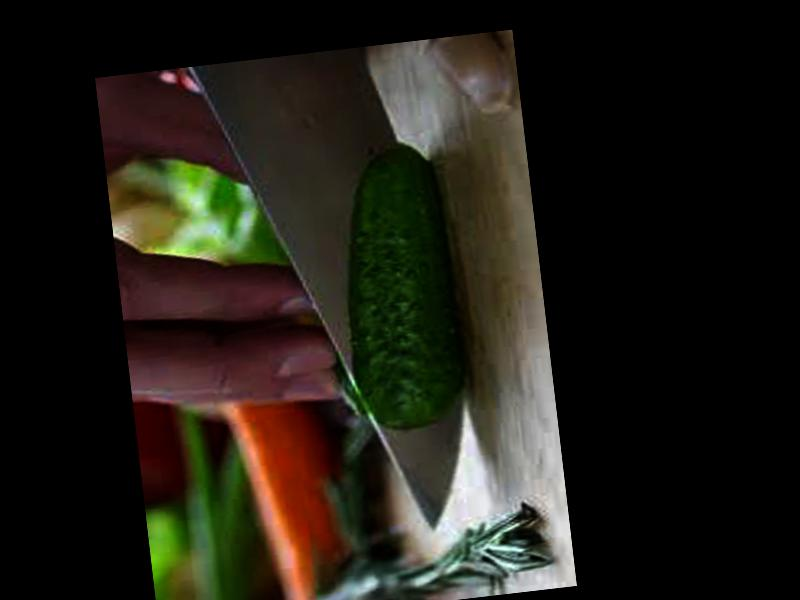Cucumber: (328, 141, 475, 435)
